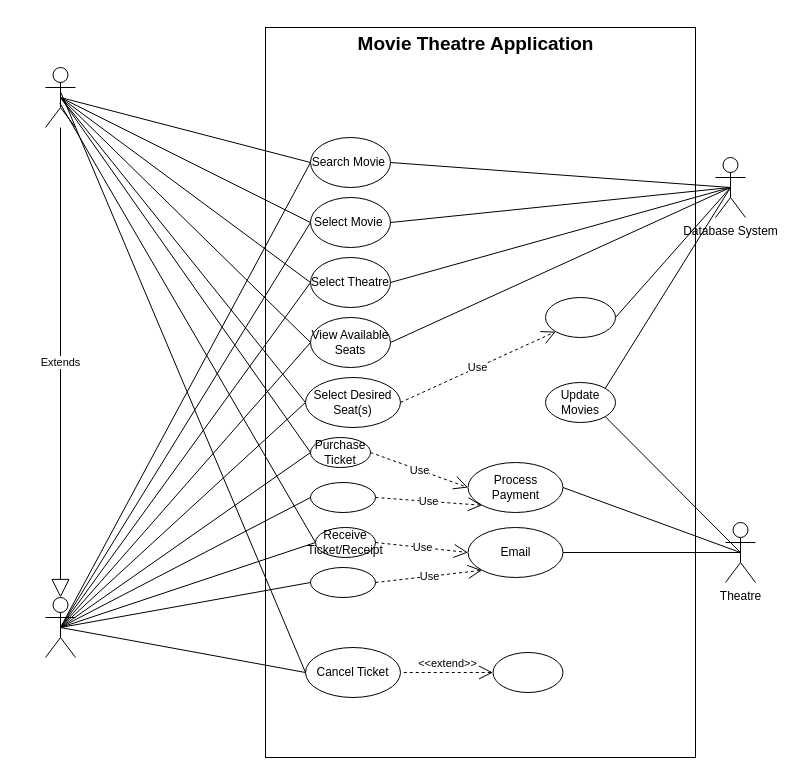
This 795x775 diagram has some shape labels left out. The shapes that lost their labels are listed below. From the top down, each one's centre as x and y in pixels, then its label:
At point 60,97: "User".
At point 580,317: "Update Seating Info".
At point 343,497: "Pay User Fee".
At point 343,582: "Receive Newsletter".
At point 60,627: "Registered User".
At point 527,672: "Waive Cancellation Fee".
